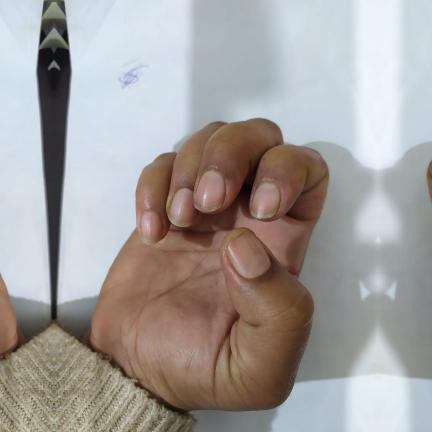Nail: (227, 228, 271, 278), (194, 170, 226, 212), (168, 188, 198, 227), (250, 182, 281, 219), (140, 212, 162, 245)
